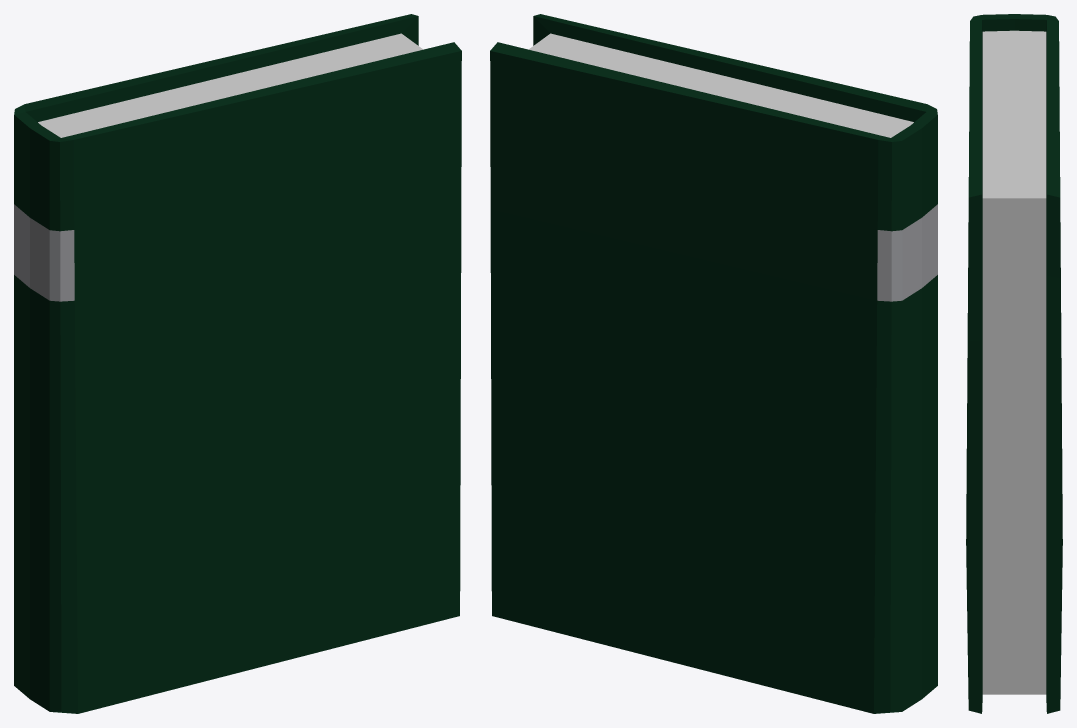
File: Book_Green.fbx
3 views of the same model, side by side, from view 1: azimuth 30°, elevation 25°; view 2: azimuth 150°, elevation 25°; view 3: azimuth 270°, elevation 25° (orthographic). The views are drawn at different scales.
Visible parts, largest first — view 1: Book_Green; view 2: Book_Green; view 3: Book_Green.
Part boxes in pixels (x1=…): Book_Green: x1=14, y1=14, x2=461, y2=713; Book_Green: x1=490, y1=14, x2=937, y2=713; Book_Green: x1=966, y1=14, x2=1062, y2=713.
Bounding box in the file's own units: 22.5 × 30.29 × 5.09.
